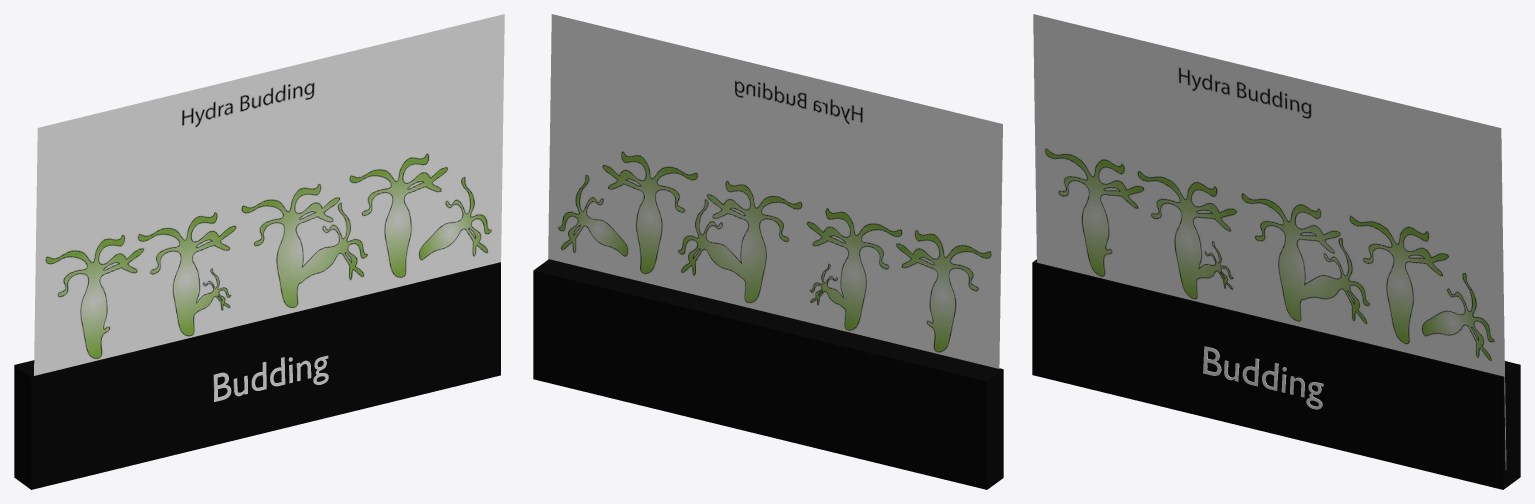
Rendered from budding.gltf.
3 views of the same model, side by side, from view 1: azimuth 30°, elevation 25°; view 2: azimuth 150°, elevation 25°; view 3: azimuth 330°, elevation 25° (orthographic). The views are drawn at different scales.
Parts seen in each view (by area): view 1: budding, Cube.002, Text.002; view 2: budding, Cube.002; view 3: budding, Cube.002, Text.002.
Part boxes in pixels (<box>): budding: <box>34,14,504,375</box>; Cube.002: <box>14,262,500,489</box>; Text.002: <box>213,355,328,401</box>; budding: <box>548,14,1002,368</box>; Cube.002: <box>533,259,1003,489</box>; budding: <box>1033,14,1506,469</box>; Cube.002: <box>1032,259,1520,489</box>; Text.002: <box>1203,346,1323,409</box>.
Size of the model in its own units: 3.35 by 2.47 by 0.2917.
2 materials, 1 textured.
